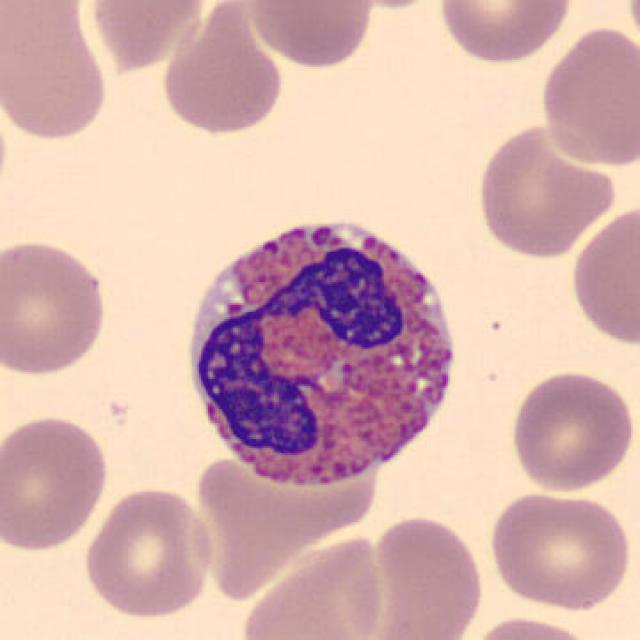Eosinophil: (174, 199, 471, 503)
RBC: (178, 455, 385, 599), (471, 118, 621, 263), (80, 483, 219, 621), (154, 2, 290, 141), (485, 488, 635, 612), (506, 367, 636, 495), (235, 532, 388, 640), (0, 411, 112, 555), (0, 235, 112, 379), (363, 511, 487, 640), (2, 1, 112, 144), (535, 21, 638, 169), (567, 201, 638, 349), (85, 0, 214, 74), (244, 0, 378, 71), (434, 0, 576, 67), (464, 612, 603, 640)
